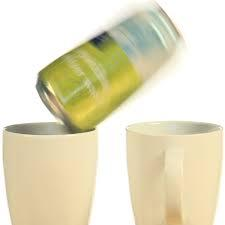Ceramic: (35, 2, 215, 115), (5, 125, 105, 223)
